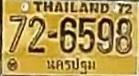2: (27, 16, 45, 52)
5: (78, 17, 95, 52)
6: (59, 16, 76, 52)
7: (8, 14, 26, 52)
8: (115, 18, 132, 54)
9: (96, 17, 113, 53)
NPT: (43, 55, 97, 75)
